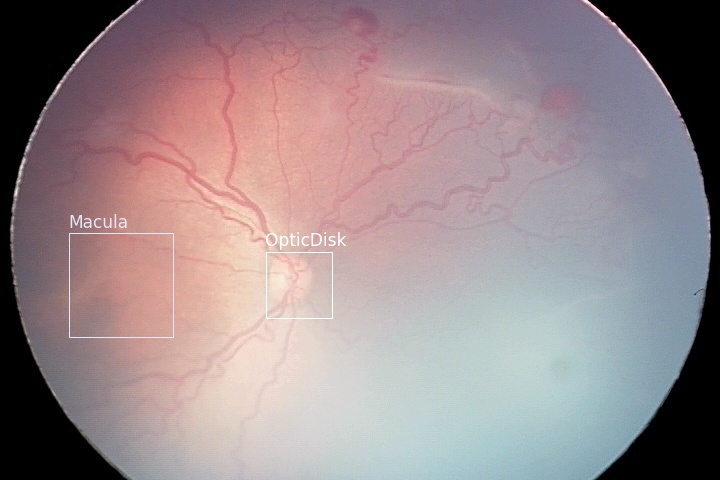Macula: (68, 232, 172, 336)
OpticDisk: (265, 251, 331, 317)
